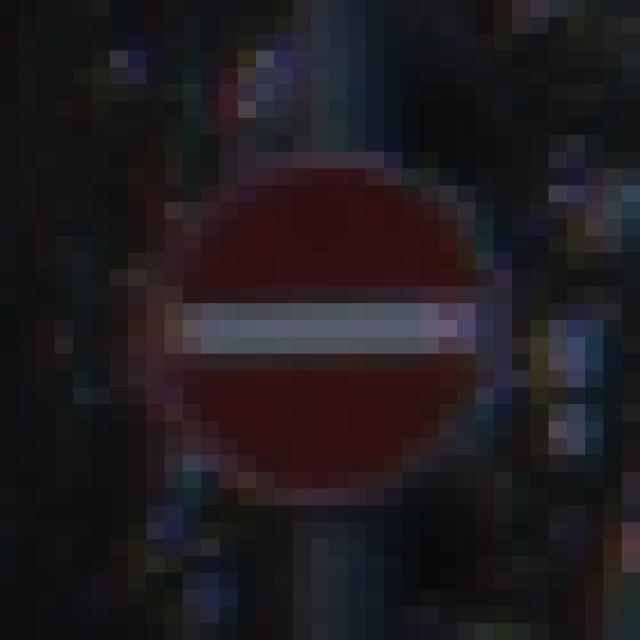No Entry: (111, 102, 550, 557)
